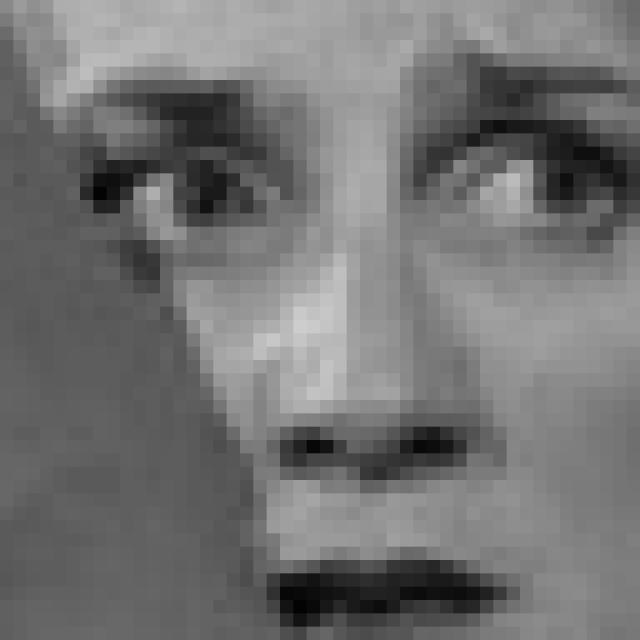fear: (100, 33, 640, 640)
